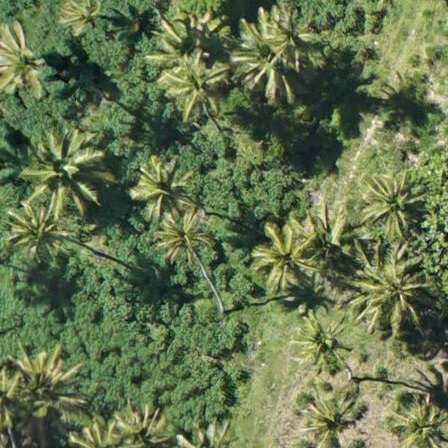palm_tree: (19, 121, 107, 215), (248, 218, 322, 297), (1, 19, 60, 107), (7, 346, 77, 419), (358, 165, 426, 237), (128, 154, 192, 222), (357, 261, 425, 324), (12, 204, 72, 263), (161, 59, 228, 111), (256, 9, 316, 64), (391, 393, 447, 447), (300, 393, 358, 445), (293, 315, 350, 365), (50, 1, 109, 43), (160, 207, 207, 257)
